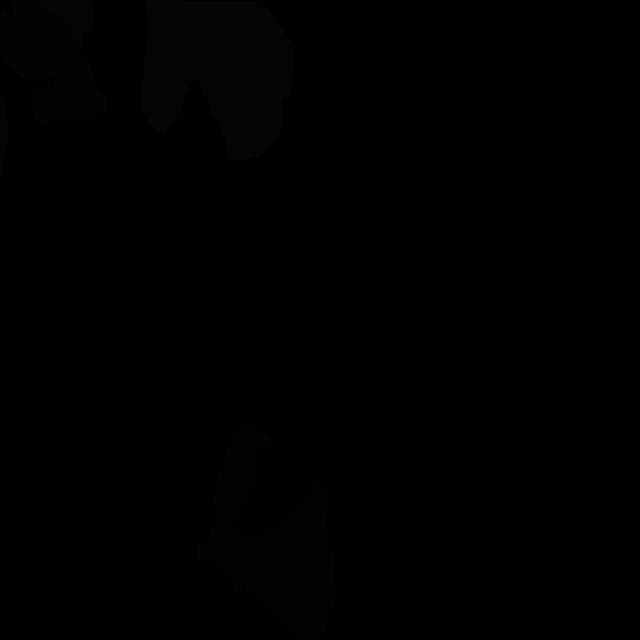cardboard: (197, 419, 336, 640)
metal: (0, 0, 108, 126)
rigid_plastic: (235, 369, 342, 531), (341, 384, 420, 602), (604, 483, 640, 640)
soft_plastic: (142, 0, 295, 163), (32, 0, 94, 50), (0, 96, 9, 181)
